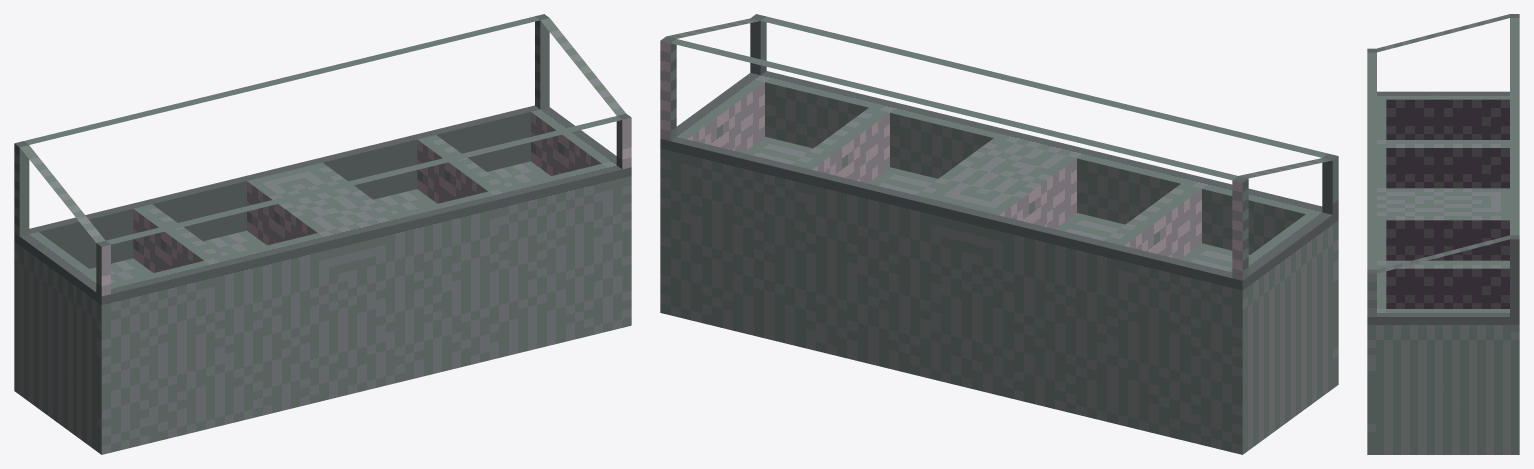
Rendered from CafeteriaServiceStation.fbx.
3 views of the same model, side by side, from view 1: azimuth 30°, elevation 25°; view 2: azimuth 150°, elevation 25°; view 3: azimuth 270°, elevation 25° (orthographic). The views are drawn at different scales.
Parts seen in each view (by area): view 1: Cube.167; view 2: Cube.167; view 3: Cube.167.
Part boxes in pixels (left/top/right/bottom): Cube.167: left=14, top=14, right=631, bottom=454; Cube.167: left=660, top=14, right=1338, bottom=454; Cube.167: left=1367, top=14, right=1519, bottom=454.
Size of the model in its own units: 350 by 156 by 100.
1 material, 1 textured.
